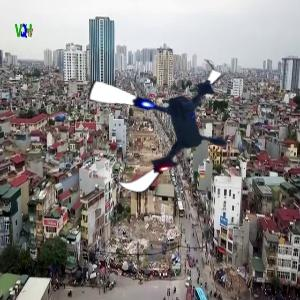drone: (82, 49, 241, 208)
